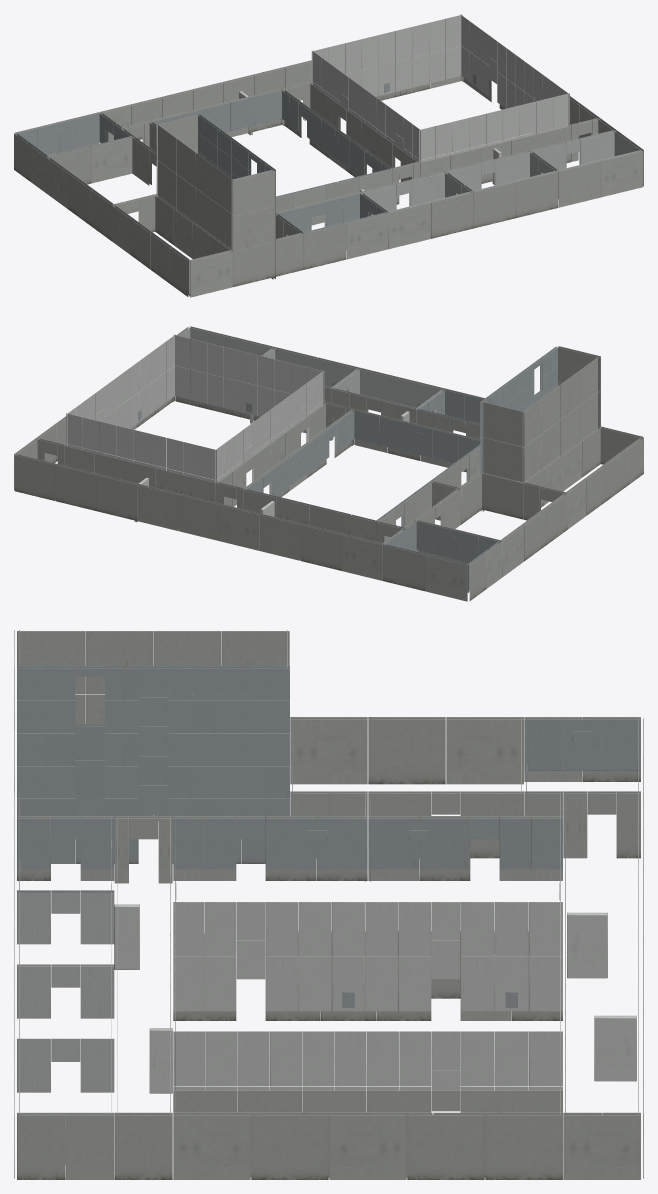
The model's file is WS_B5_Walls.fbx.
3 views of the same model, one above another, from view 1: azimuth 30°, elevation 25°; view 2: azimuth 150°, elevation 25°; view 3: azimuth 270°, elevation 25° (orthographic). The views are drawn at different scales.
Visible parts, largest first — view 1: WS_B5_WS_Concrete_5_3, WS_B5_WS_Concrete_5_2, WS_B5_WS_Concrete_0_3, WS_B5_WS_Concrete_3_3, WS_B5_WS_Concrete_1_3, WS_B5_WS_Clean_0_0, WS_B5_WS_Concrete_5_0, WS_B5_WS_Clean_1_0, WS_B5_WS_Concrete_4_3, WS_B5_WS_Concrete_2_3, WS_B5_WS_Concrete_2_0, WS_B5_WS_Clean_2_2 (+25 smaller); view 2: WS_B5_WS_Concrete_5_2, WS_B5_WS_Concrete_5_3, WS_B5_WS_Clean_0_2, WS_B5_WS_Concrete_0_0, WS_B5_WS_Concrete_2_0, WS_B5_WS_Concrete_5_0, WS_B5_WS_Concrete_4_0, WS_B5_WS_Concrete_1_0, WS_B5_WS_Clean_1_2, WS_B5_WS_Concrete_3_0, WS_B5_WS_Clean_1_0, WS_B5_WS_Steel_5_0 (+23 smaller); view 3: WS_B5_WS_Steel_4_3, WS_B5_WS_Steel_4_2, WS_B5_WS_Clean_2_1, WS_B5_WS_Clean_2_2, WS_B5_WS_Concrete_0_1, WS_B5_WS_Concrete_0_2, WS_B5_WS_Concrete_0_0, WS_B5_WS_Concrete_5_2, WS_B5_WS_Concrete_5_1, WS_B5_WS_Concrete_0_3, WS_B5_WS_Clean_0_2, WS_B5_WS_Clean_0_1 (+21 smaller).
Part boxes in pixels (box(x1,y1,x2,y2)): WS_B5_WS_Concrete_5_3: box(150, 152, 275, 297); WS_B5_WS_Concrete_5_2: box(90, 115, 198, 268); WS_B5_WS_Concrete_0_3: box(511, 118, 643, 207); WS_B5_WS_Concrete_3_3: box(293, 178, 430, 259); WS_B5_WS_Concrete_1_3: box(450, 140, 558, 228); WS_B5_WS_Clean_0_0: box(412, 14, 479, 88); WS_B5_WS_Concrete_5_0: box(14, 112, 133, 193); WS_B5_WS_Clean_1_0: box(345, 27, 412, 96); WS_B5_WS_Concrete_4_3: box(275, 194, 345, 276); WS_B5_WS_Concrete_2_3: box(359, 155, 473, 238); WS_B5_WS_Concrete_2_0: box(222, 61, 337, 137); WS_B5_WS_Clean_2_2: box(376, 98, 452, 176); WS_B5_WS_Concrete_5_2: box(480, 384, 605, 545); WS_B5_WS_Concrete_5_3: box(557, 346, 643, 501); WS_B5_WS_Clean_0_2: box(130, 334, 223, 427); WS_B5_WS_Concrete_0_0: box(14, 422, 124, 510); WS_B5_WS_Concrete_2_0: box(169, 462, 276, 550); WS_B5_WS_Concrete_5_0: box(382, 520, 502, 601); WS_B5_WS_Concrete_4_0: box(301, 507, 434, 580); WS_B5_WS_Concrete_1_0: box(77, 460, 185, 530); WS_B5_WS_Clean_1_2: box(224, 347, 290, 416); WS_B5_WS_Concrete_3_0: box(231, 498, 342, 560); WS_B5_WS_Clean_1_0: box(116, 425, 183, 522); WS_B5_WS_Steel_5_0: box(384, 521, 500, 592); WS_B5_WS_Steel_4_3: box(17, 666, 167, 869); WS_B5_WS_Steel_4_2: box(168, 666, 326, 869); WS_B5_WS_Clean_2_1: box(332, 902, 494, 1011); WS_B5_WS_Clean_2_2: box(173, 901, 331, 1011); WS_B5_WS_Concrete_0_1: box(302, 1090, 497, 1179); WS_B5_WS_Concrete_0_2: box(173, 1089, 328, 1179); WS_B5_WS_Concrete_0_0: box(460, 1036, 643, 1179); WS_B5_WS_Concrete_5_2: box(153, 630, 367, 820); WS_B5_WS_Concrete_5_1: box(368, 717, 523, 784); WS_B5_WS_Concrete_0_3: box(14, 1036, 172, 1179); WS_B5_WS_Clean_0_2: box(173, 989, 334, 1090); WS_B5_WS_Clean_0_1: box(334, 1031, 494, 1090).
Size of the model in its own units: 4831 by 1109 by 3231.
